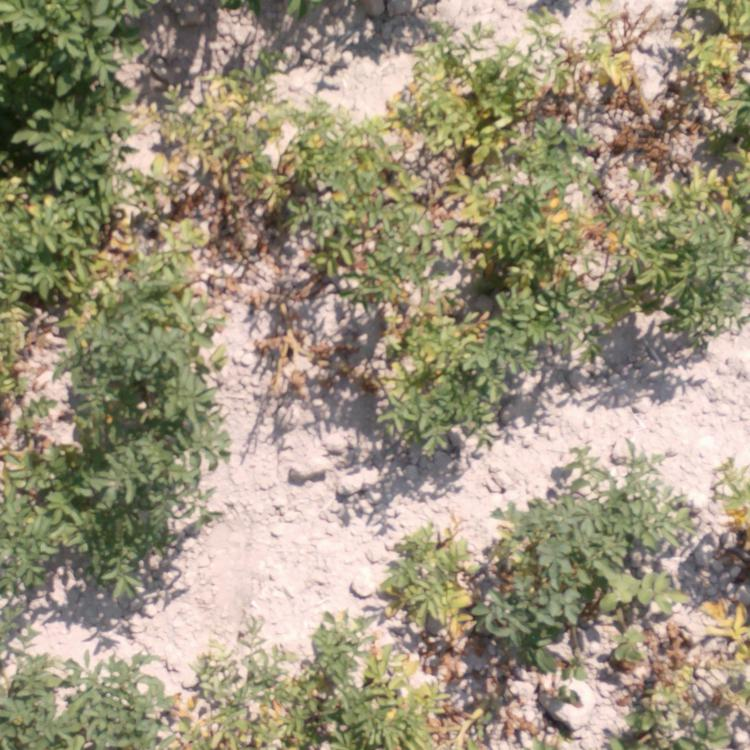healthy: (482, 439, 695, 558), (1, 460, 181, 596), (1, 6, 115, 206), (1, 643, 172, 744), (65, 341, 223, 444), (491, 558, 621, 631)
stressed: (194, 650, 489, 742), (442, 130, 596, 299), (615, 140, 750, 321), (351, 305, 536, 437), (280, 119, 427, 280), (1, 229, 205, 331), (141, 78, 257, 224), (637, 614, 750, 732), (387, 38, 563, 100), (668, 5, 750, 133), (389, 522, 477, 641), (565, 20, 660, 122), (720, 453, 750, 541)
